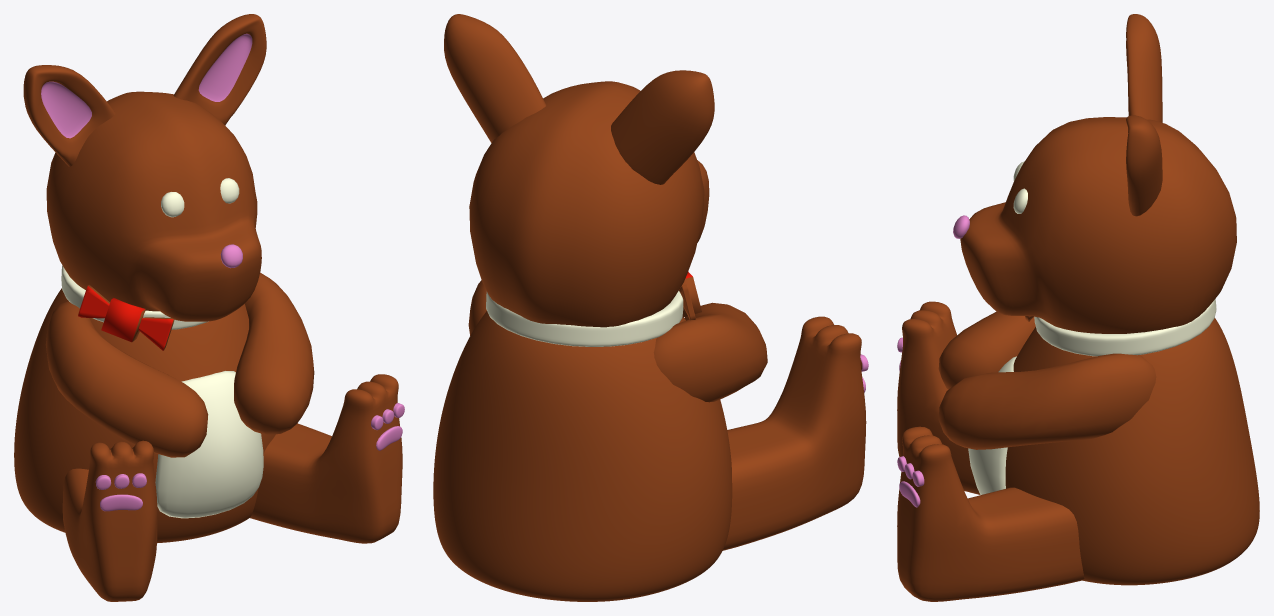
File: Bear.glb
3 views of the same model, side by side, from view 1: azimuth 30°, elevation 25°; view 2: azimuth 150°, elevation 25°; view 3: azimuth 270°, elevation 25° (orthographic). The views are drawn at different scales.
Visible parts, largest first — view 1: Cylinder; view 2: Cylinder; view 3: Cylinder.
Part boxes in pixels (x1,y1,x2,y2): Cylinder: (14,14,404,601); Cylinder: (433,14,868,601); Cylinder: (897,14,1259,601).
Size of the model in its own units: 3.22 by 4.53 by 3.2.
